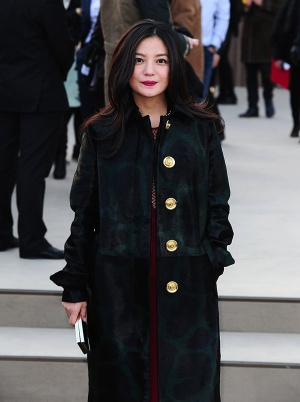female: (103, 10, 207, 120)
